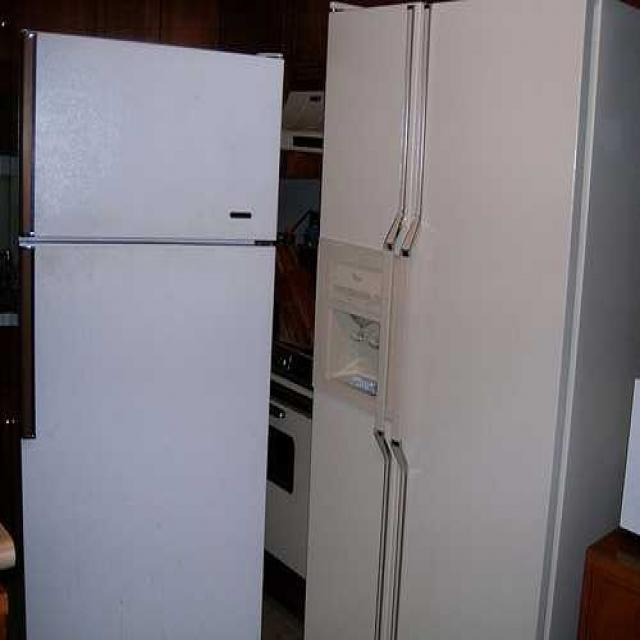refrigerator: (15, 27, 278, 640)
